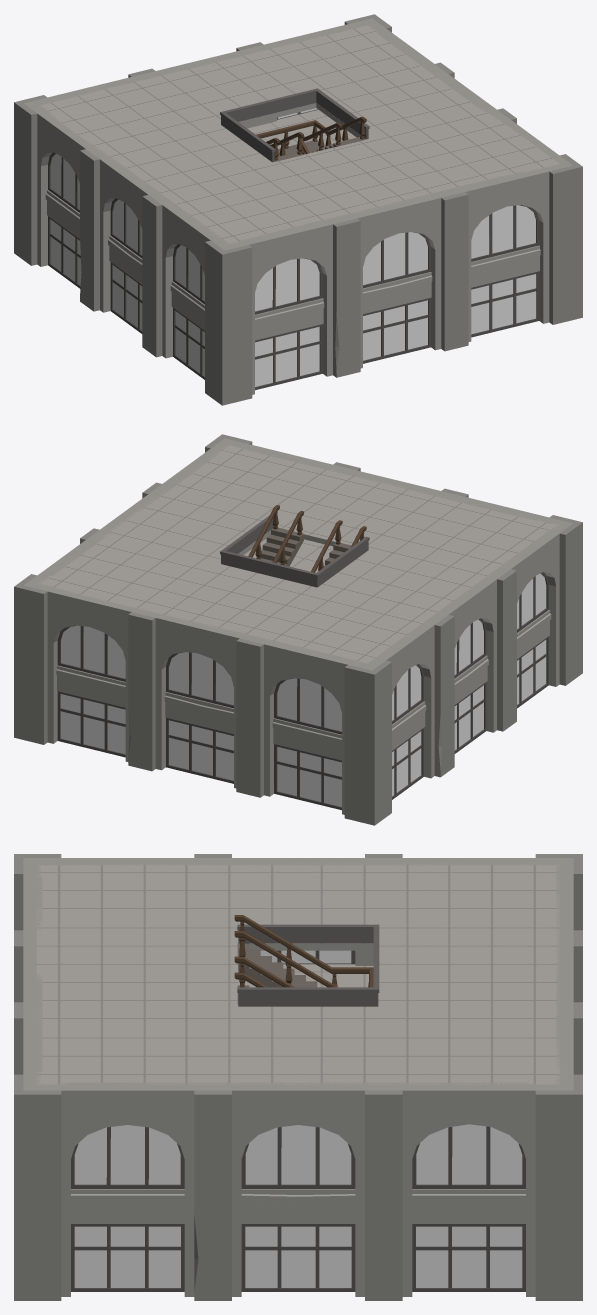
The model's file is SM_Bldg_City_High-Rise_01_Mid_02.fbx.
3 renders of one model, top to bottom at view 1: azimuth 30°, elevation 25°; view 2: azimuth 150°, elevation 25°; view 3: azimuth 270°, elevation 25°, orthographic. The views are drawn at different scales.
Parts seen in each view (by area): view 1: SM_Bldg_City_High-Rise_01_Mid_02, SM_Bldg_City_High-Rise_01_Mid_02_Glass; view 2: SM_Bldg_City_High-Rise_01_Mid_02, SM_Bldg_City_High-Rise_01_Mid_02_Glass; view 3: SM_Bldg_City_High-Rise_01_Mid_02, SM_Bldg_City_High-Rise_01_Mid_02_Glass.
Boxes of the visible parts, bbox=[...] form: SM_Bldg_City_High-Rise_01_Mid_02: bbox=[14, 14, 582, 405]; SM_Bldg_City_High-Rise_01_Mid_02_Glass: bbox=[50, 108, 536, 386]; SM_Bldg_City_High-Rise_01_Mid_02: bbox=[14, 434, 582, 825]; SM_Bldg_City_High-Rise_01_Mid_02_Glass: bbox=[60, 573, 546, 806]; SM_Bldg_City_High-Rise_01_Mid_02: bbox=[14, 854, 582, 1300]; SM_Bldg_City_High-Rise_01_Mid_02_Glass: bbox=[74, 950, 522, 1287].
Bounding box in the file's own units: 1500 × 686 × 1500.
